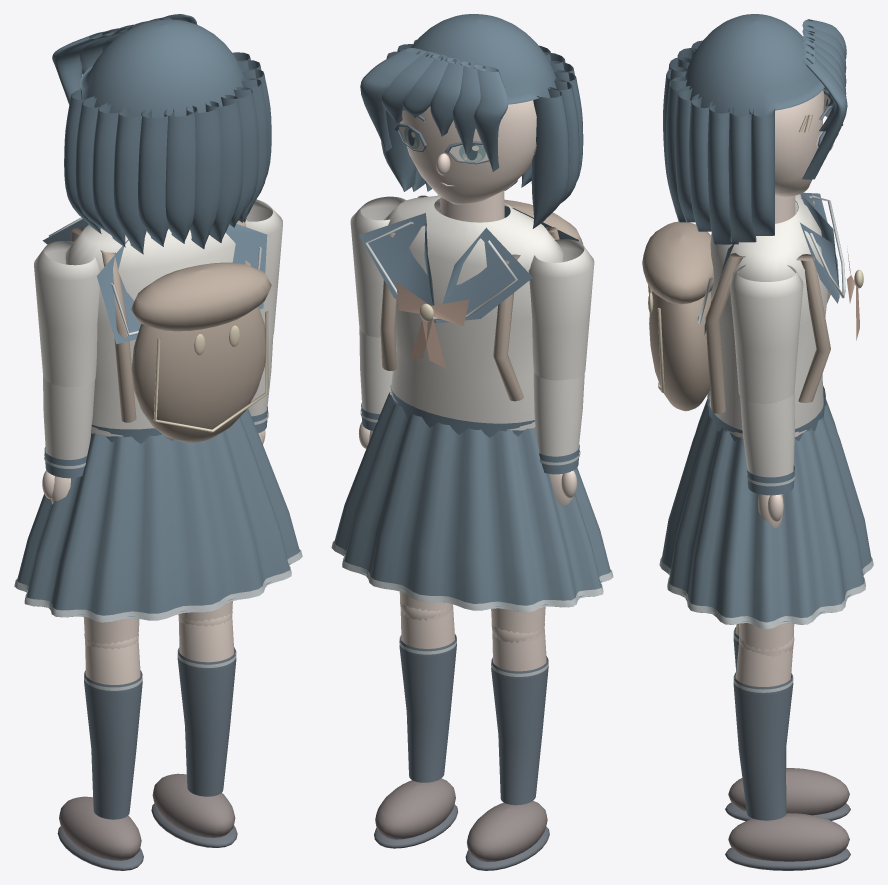
Rendered from schoolgirl.gltf.
3 renders of one model, left to right at view 1: azimuth 30°, elevation 25°; view 2: azimuth 150°, elevation 25°; view 3: azimuth 270°, elevation 25°, orthographic. The views are drawn at different scales.
Parts seen in each view (by area): view 1: Skirt, Schoolgirl, Hair, Head, LeftKnee, RightKnee, LeftArm, LeftElbow, RightArm, LeftLeg, RightElbow; view 2: Skirt, Schoolgirl, Head, LeftKnee, RightKnee, Hair, LeftArm, LeftElbow, RightArm, RightElbow, Ribbon, LeftLeg (+3 smaller); view 3: Skirt, Schoolgirl, Head, Hair, RightKnee, RightArm, RightElbow, LeftKnee, RightLeg, Ribbon.
Boxes of the visible parts, x1=… form: Skirt: x1=14, y1=408, x2=302, y2=622; Schoolgirl: x1=42, y1=217, x2=271, y2=443; Hair: x1=64, y1=52, x2=271, y2=254; Head: x1=52, y1=14, x2=244, y2=118; LeftKnee: x1=57, y1=634, x2=143, y2=870; RightKnee: x1=151, y1=611, x2=237, y2=847; LeftArm: x1=34, y1=241, x2=99, y2=387; LeftElbow: x1=42, y1=375, x2=95, y2=504; RightArm: x1=245, y1=199, x2=282, y2=339; LeftLeg: x1=83, y1=616, x2=139, y2=647; RightElbow: x1=248, y1=336, x2=273, y2=444; Skirt: x1=331, y1=392, x2=613, y2=612; Schoolgirl: x1=359, y1=190, x2=583, y2=437; Head: x1=360, y1=14, x2=556, y2=204; LeftKnee: x1=465, y1=623, x2=549, y2=870; RightKnee: x1=374, y1=601, x2=457, y2=848; Hair: x1=381, y1=39, x2=583, y2=228; LeftArm: x1=528, y1=239, x2=594, y2=380; LeftElbow: x1=533, y1=371, x2=584, y2=505; RightArm: x1=350, y1=196, x2=406, y2=337; RightElbow: x1=358, y1=328, x2=392, y2=448; Ribbon: x1=396, y1=282, x2=469, y2=368; LeftLeg: x1=491, y1=606, x2=545, y2=642; Skirt: x1=659, y1=398, x2=873, y2=629; Schoolgirl: x1=642, y1=192, x2=845, y2=441; Head: x1=685, y1=14, x2=847, y2=196; Hair: x1=663, y1=40, x2=774, y2=244; RightKnee: x1=725, y1=635, x2=850, y2=870; RightArm: x1=729, y1=265, x2=803, y2=403; RightElbow: x1=740, y1=392, x2=795, y2=528; LeftKnee: x1=725, y1=624, x2=850, y2=821; RightLeg: x1=739, y1=623, x2=794, y2=656; Ribbon: x1=847, y1=246, x2=863, y2=340.
Bounding box in the file's own units: 0.5706 × 1.69 × 0.4336.
